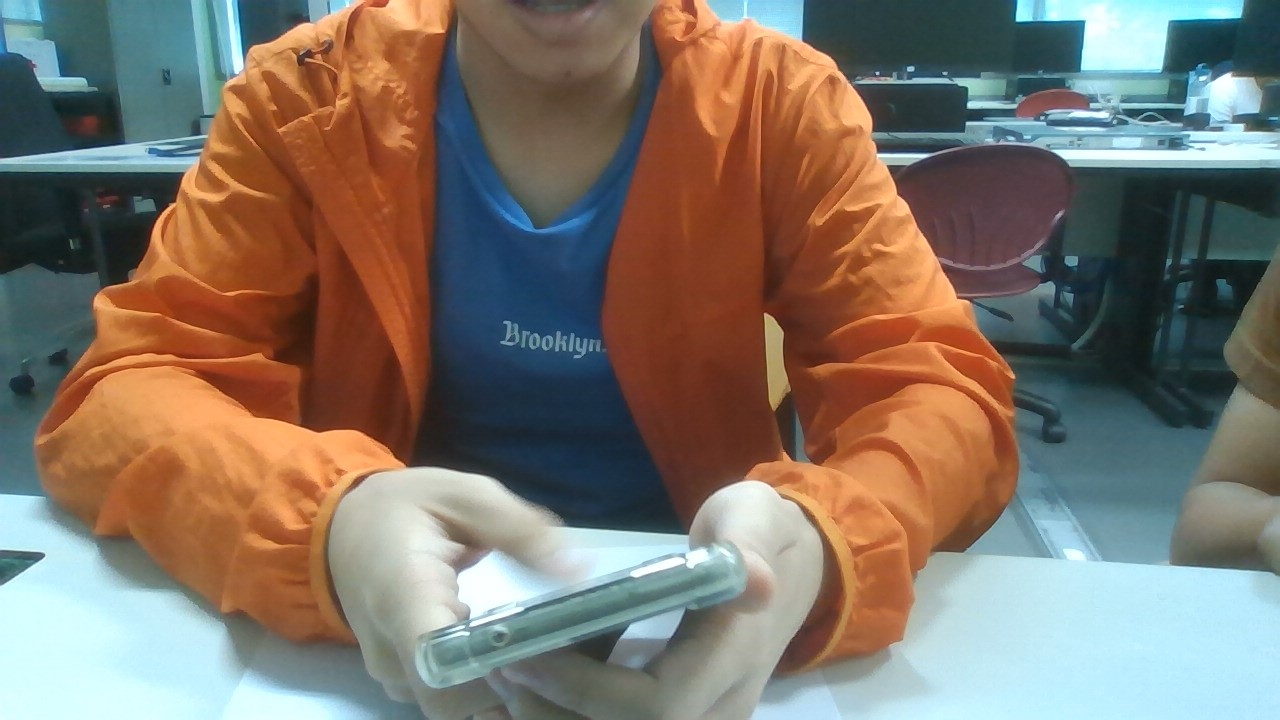phone: (413, 544, 748, 688)
